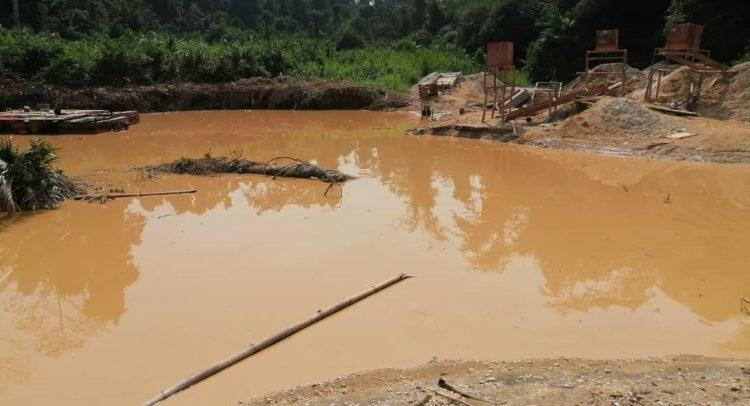ProcessingEquiment: (501, 28, 627, 122), (643, 20, 727, 114), (480, 42, 516, 123), (417, 70, 442, 95), (437, 70, 464, 90)
